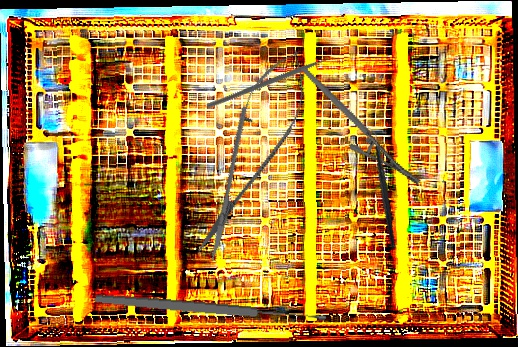Chopper: (205, 12, 344, 157), (344, 125, 418, 249)
Micro Scissor: (178, 37, 324, 272)
Needle Holder: (300, 42, 424, 210)
Surgical Spoon: (94, 291, 327, 326)
